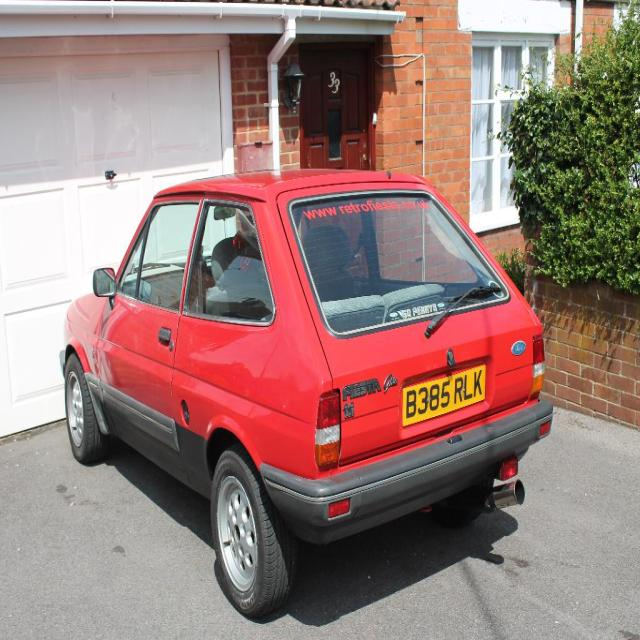car: (60, 168, 556, 616)
